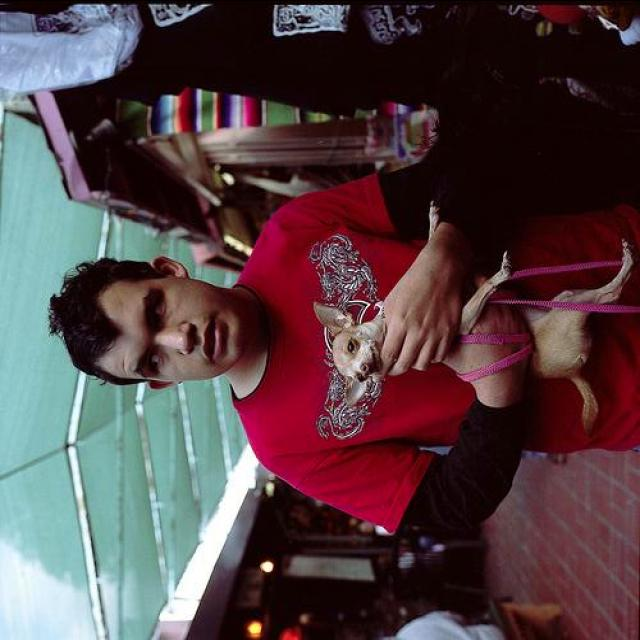chihuahua: (310, 202, 638, 434)
